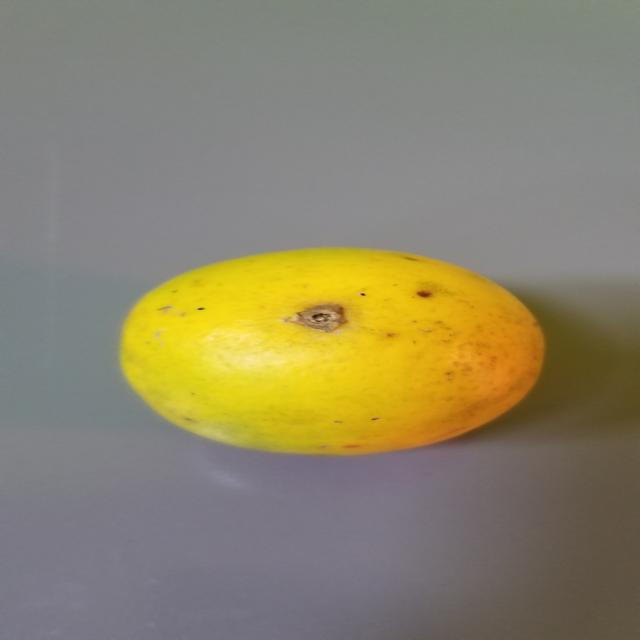Ripe orange: (105, 236, 555, 466)
